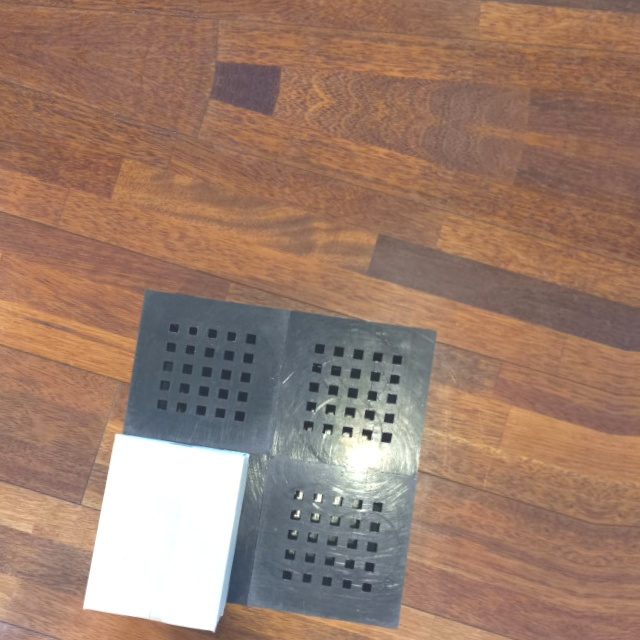box: (73, 425, 255, 637)
pallet: (103, 276, 476, 640)
